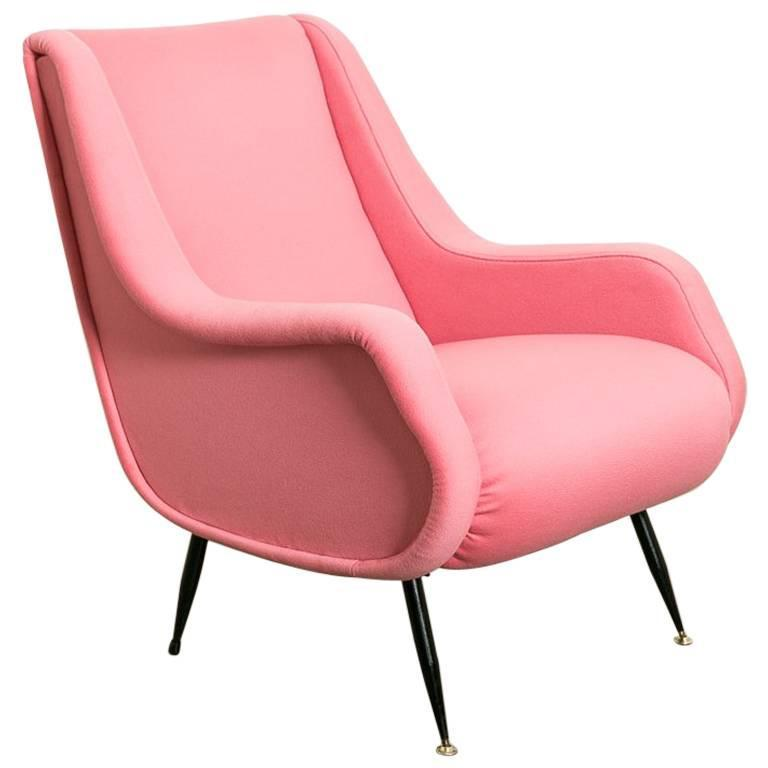chairs: (19, 10, 740, 750)
